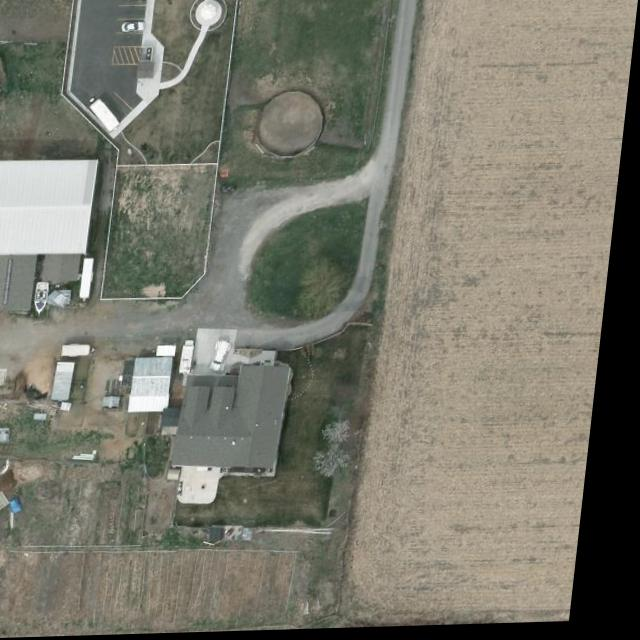vehicle: (219, 341, 242, 373), (122, 22, 146, 34)
